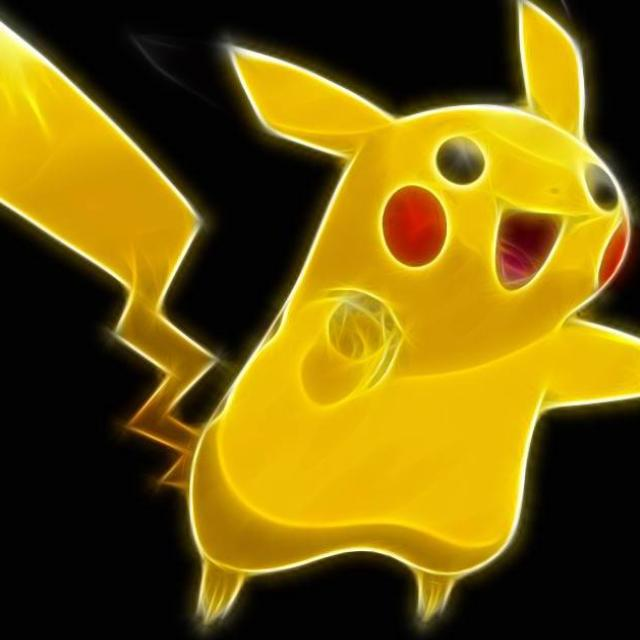Pikachu: (278, 83, 629, 553)
